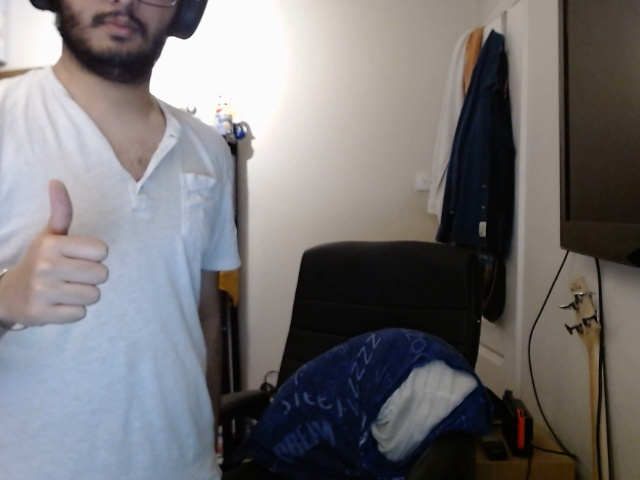Thumbs up: (7, 176, 113, 343)
